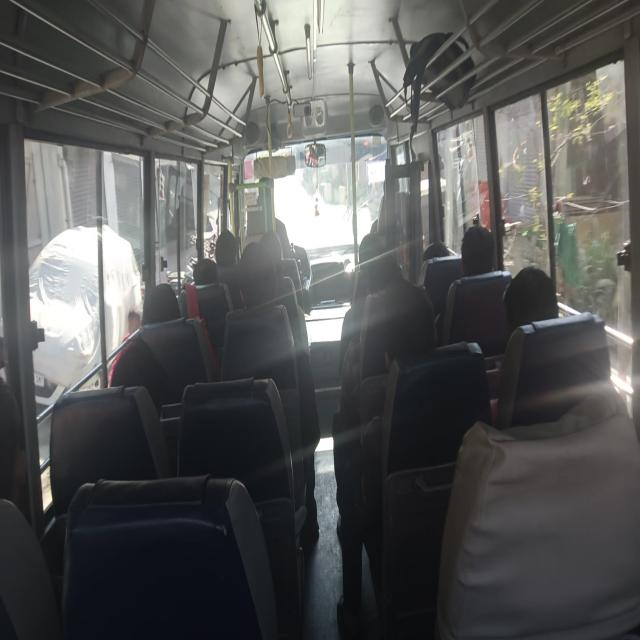person: (0, 366, 68, 546), (374, 273, 448, 362), (496, 277, 562, 348), (240, 239, 284, 317), (104, 343, 150, 404), (146, 289, 184, 344), (455, 215, 491, 270), (206, 219, 243, 267), (368, 254, 407, 296), (256, 230, 290, 272), (188, 256, 218, 298), (356, 237, 386, 267), (424, 236, 448, 261)
